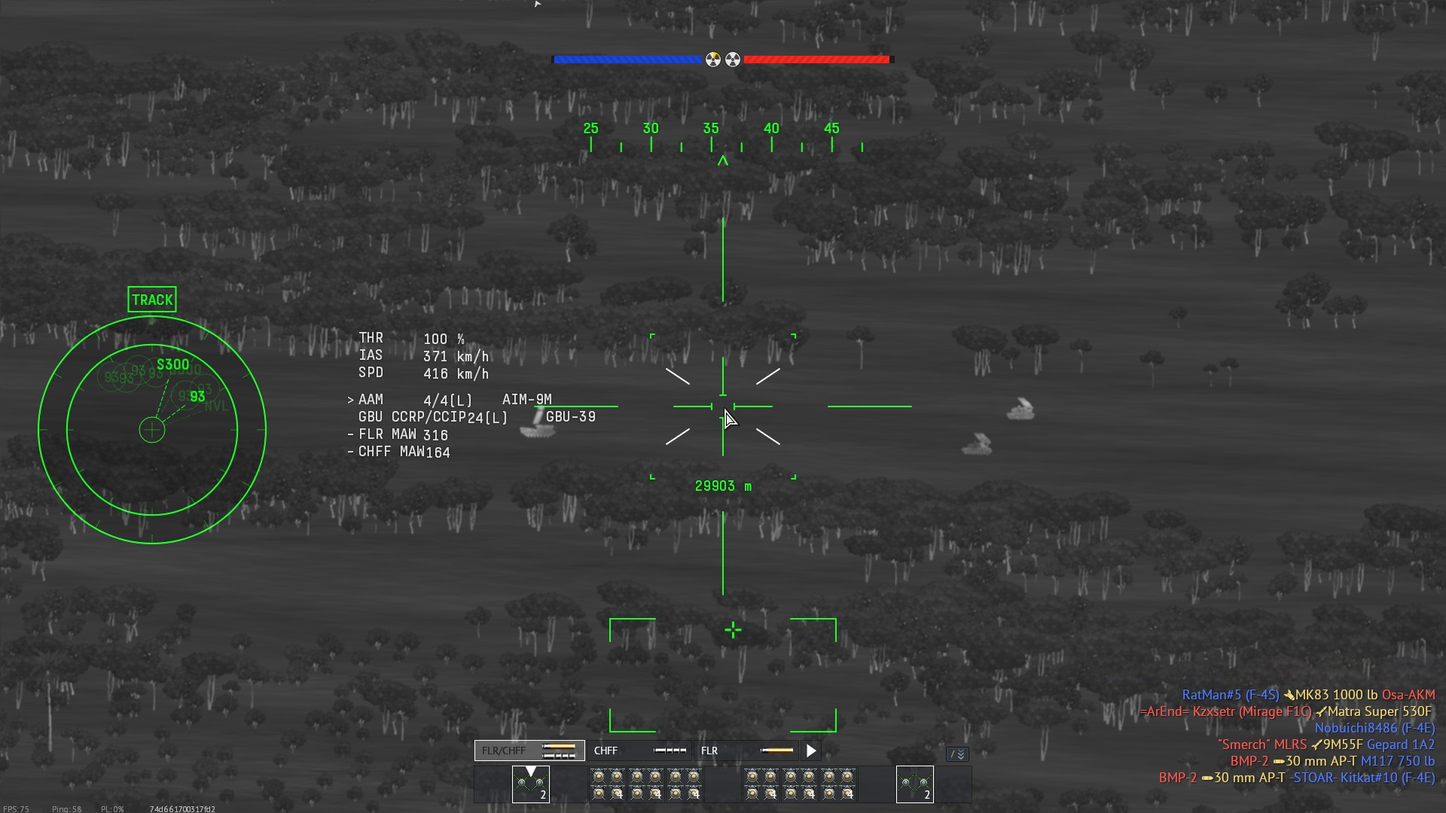BUK_TADS: (516, 407, 561, 439)
BUK_TELAR: (958, 432, 995, 457), (1007, 395, 1038, 420)
